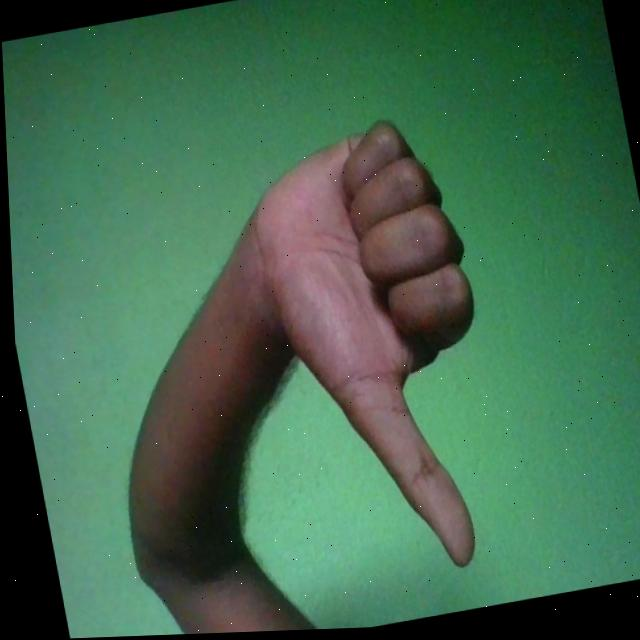Dislike: (232, 112, 516, 595)
